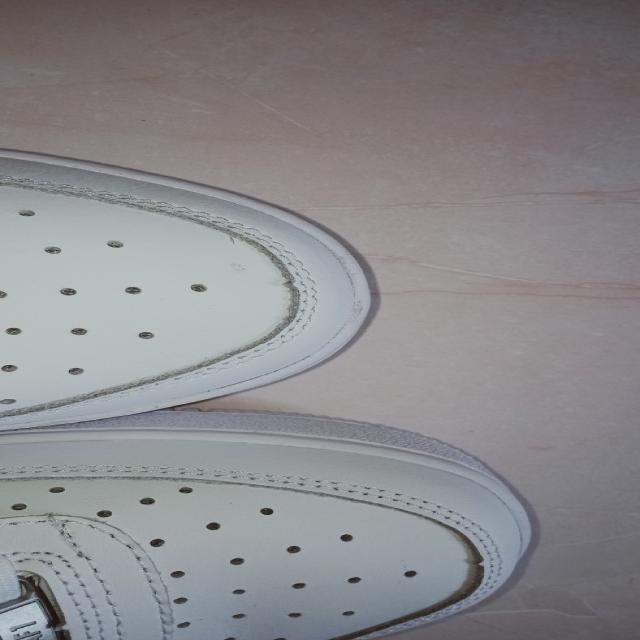nike fake air force: (0, 407, 546, 640), (0, 126, 377, 432)
